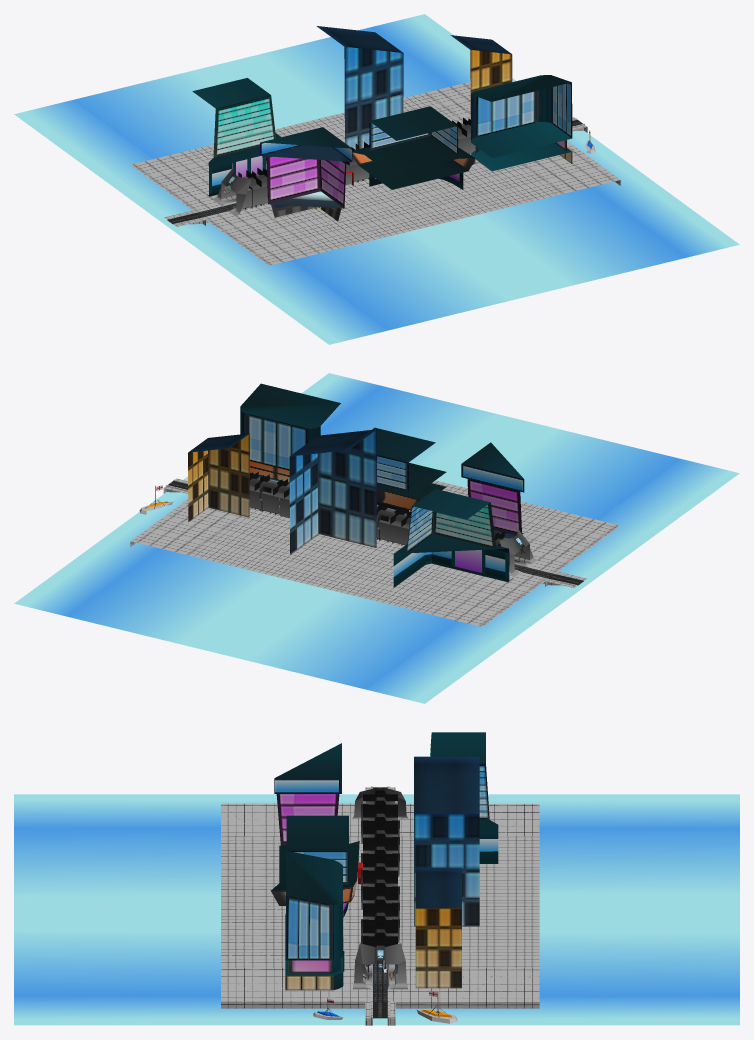
Rendered from subwaysurferstest93.glb.
3 views of the same model, one above another, from view 1: azimuth 30°, elevation 25°; view 2: azimuth 150°, elevation 25°; view 3: azimuth 270°, elevation 25° (orthographic). The views are drawn at different scales.
Parts seen in each view (by area): view 1: Water, tile.024, building, building.004, building.005, building.003, tile.001, building.008, building.007, tunnel.009; view 2: Water, tile.001, building.003, building.008, building, building.007, tile.024, building.004, building.005, tunnel.001, tunnel.009, tunnel.005; view 3: Water, tile.001, tile.024, building.003, building, building.007, building.004, building.005, building.008, tunnel, tunnel.009, tunnel.002 (+7 smaller).
Boxes of the visible parts, x1,y1,x2,y2 form: Water: [14, 14, 739, 344]; tile.024: [203, 141, 620, 265]; building: [471, 75, 572, 171]; building.004: [352, 106, 475, 189]; building.005: [260, 127, 352, 221]; building.003: [316, 26, 403, 149]; tile.001: [130, 81, 470, 212]; building.008: [192, 78, 280, 196]; building.007: [450, 35, 512, 119]; tunnel.009: [213, 167, 265, 216]; Water: [14, 373, 739, 703]; tile.001: [130, 499, 547, 626]; building.003: [289, 429, 377, 554]; building.008: [393, 489, 509, 587]; building: [240, 383, 340, 484]; building.007: [188, 433, 249, 522]; tile.024: [270, 479, 620, 573]; building.004: [372, 427, 446, 513]; building.005: [461, 442, 524, 538]; tunnel.001: [250, 474, 289, 514]; tunnel.009: [495, 528, 537, 578]; tunnel.005: [376, 503, 406, 543]; Water: [14, 794, 739, 1025]; tile.001: [387, 804, 539, 1008]; tile.024: [221, 803, 372, 1008]; building.003: [414, 756, 479, 926]; building: [285, 851, 344, 990]; building.007: [415, 867, 461, 988]; building.004: [271, 815, 359, 917]; building.005: [274, 743, 341, 845]; building.008: [430, 732, 498, 863]; tunnel: [353, 938, 407, 989]; tunnel.009: [352, 788, 407, 820]; tunnel.002: [361, 905, 399, 942].
Bounding box in the file's own units: 562 × 166 × 744.
Materials: 4 (4 with a texture image).
